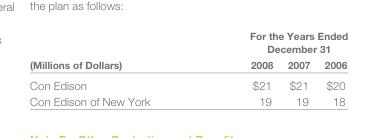table: (29, 29, 347, 107)
table column: (29, 29, 199, 107), (199, 29, 279, 107), (279, 29, 316, 107), (316, 29, 347, 107)
table column header: (29, 29, 347, 74)
table row: (29, 29, 347, 56), (29, 56, 347, 74), (29, 74, 347, 92), (29, 92, 347, 107)
table spanning cell: (29, 29, 199, 74), (199, 29, 347, 56)
